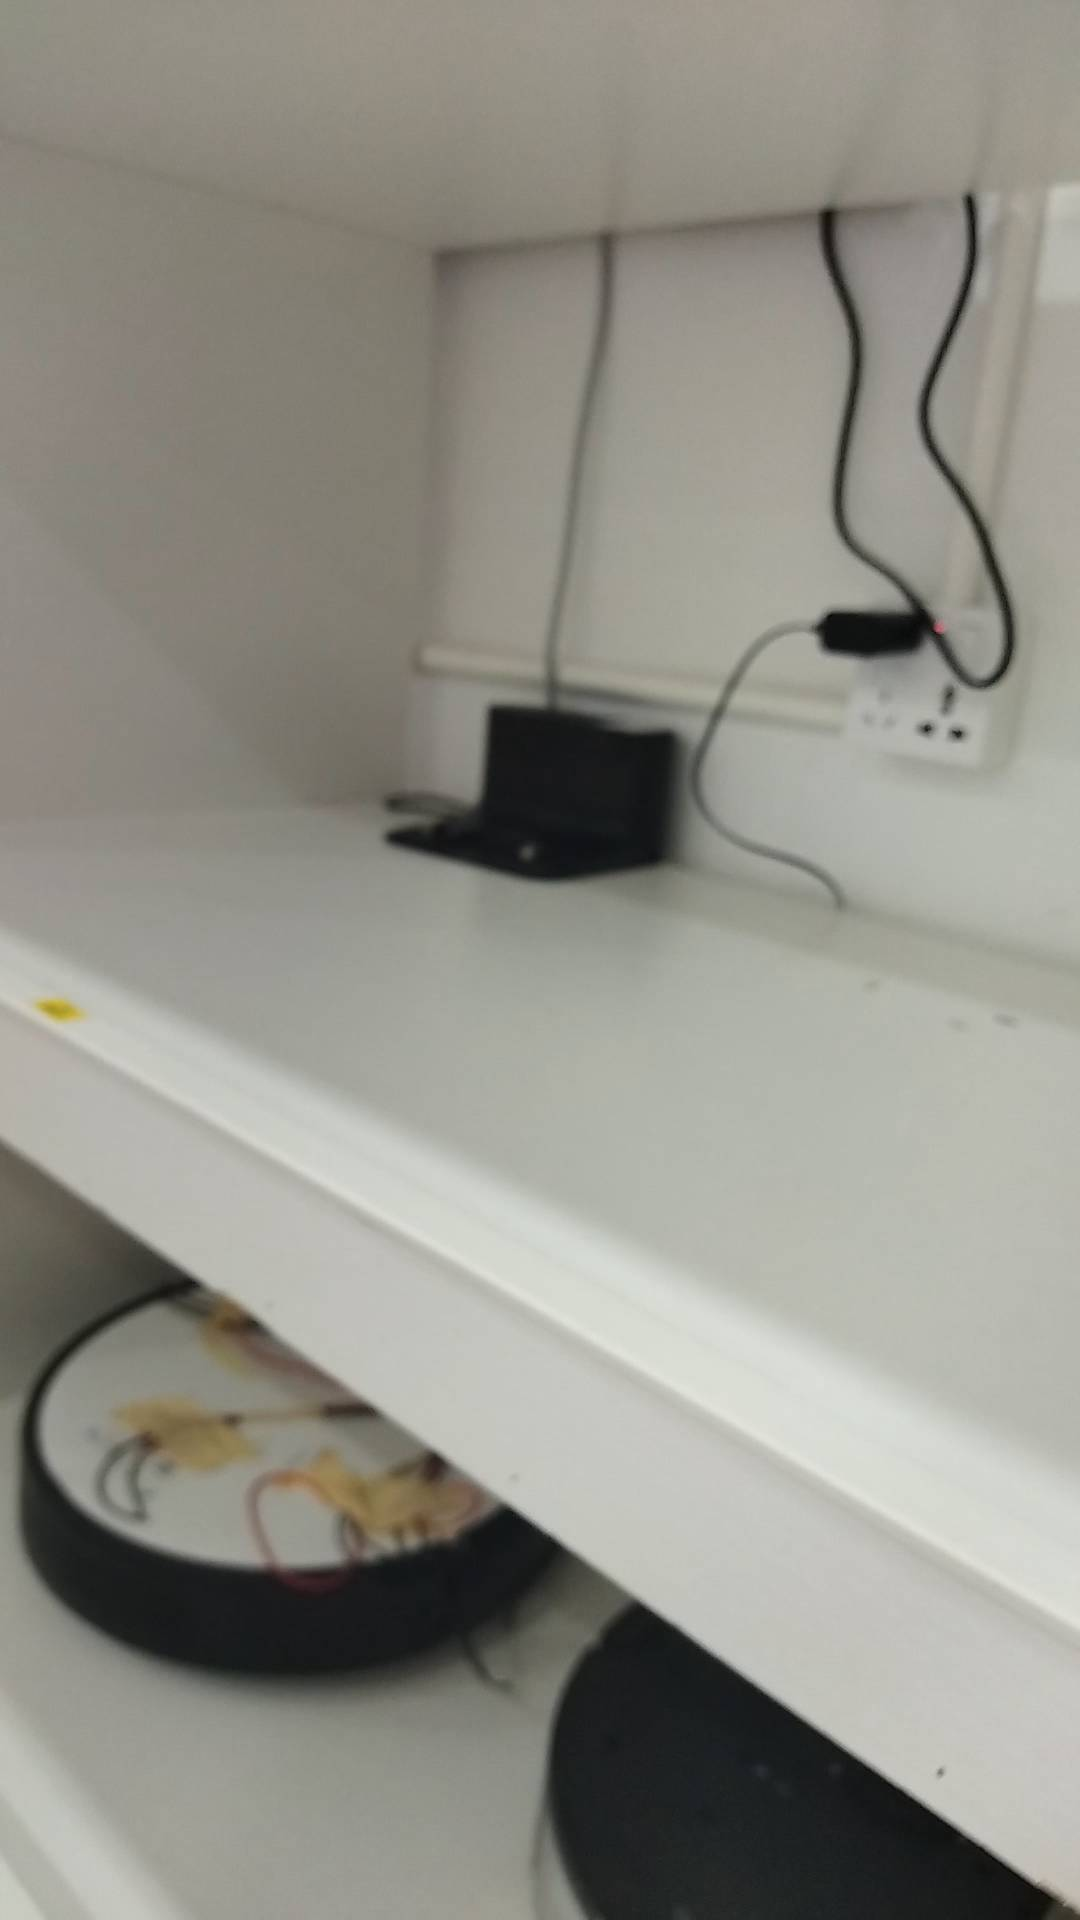recharge seat: (384, 705, 680, 881)
